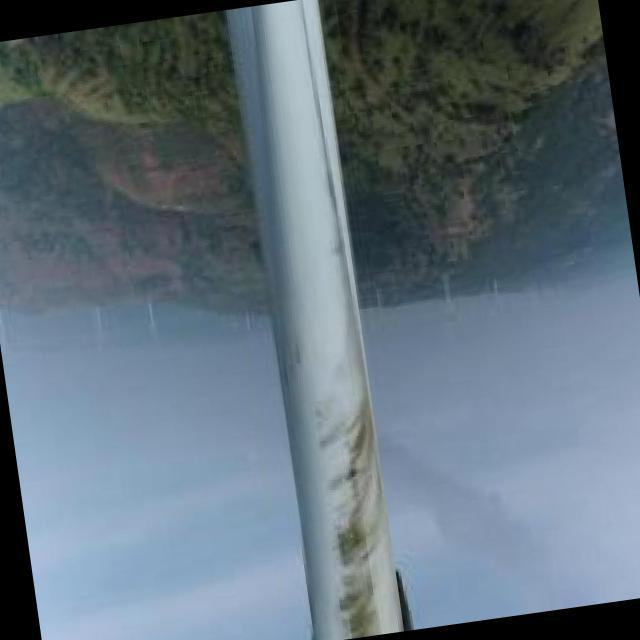Oil LEAKAGE: (292, 6, 366, 370), (315, 372, 391, 640)
Pin Hole: (348, 464, 360, 488)
